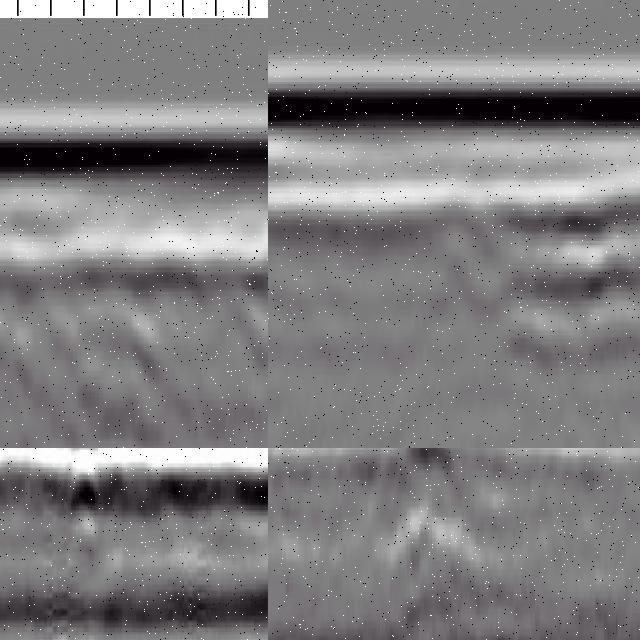crack: (53, 449, 107, 559)
loose: (1, 253, 269, 449), (467, 150, 640, 357), (306, 449, 512, 508)
